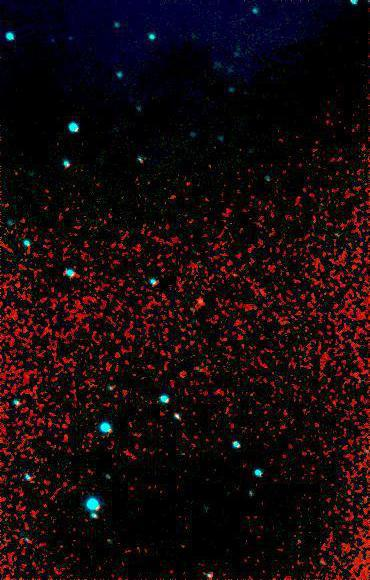star: (179, 22, 209, 52)
